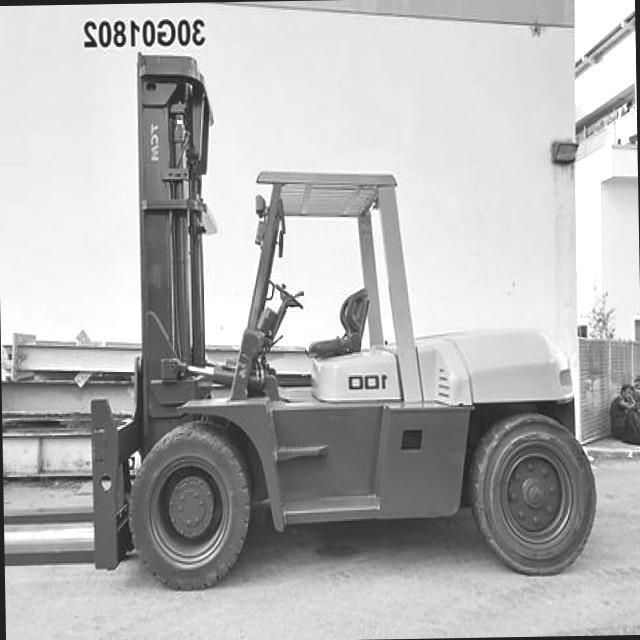forklift: (62, 42, 602, 596)
